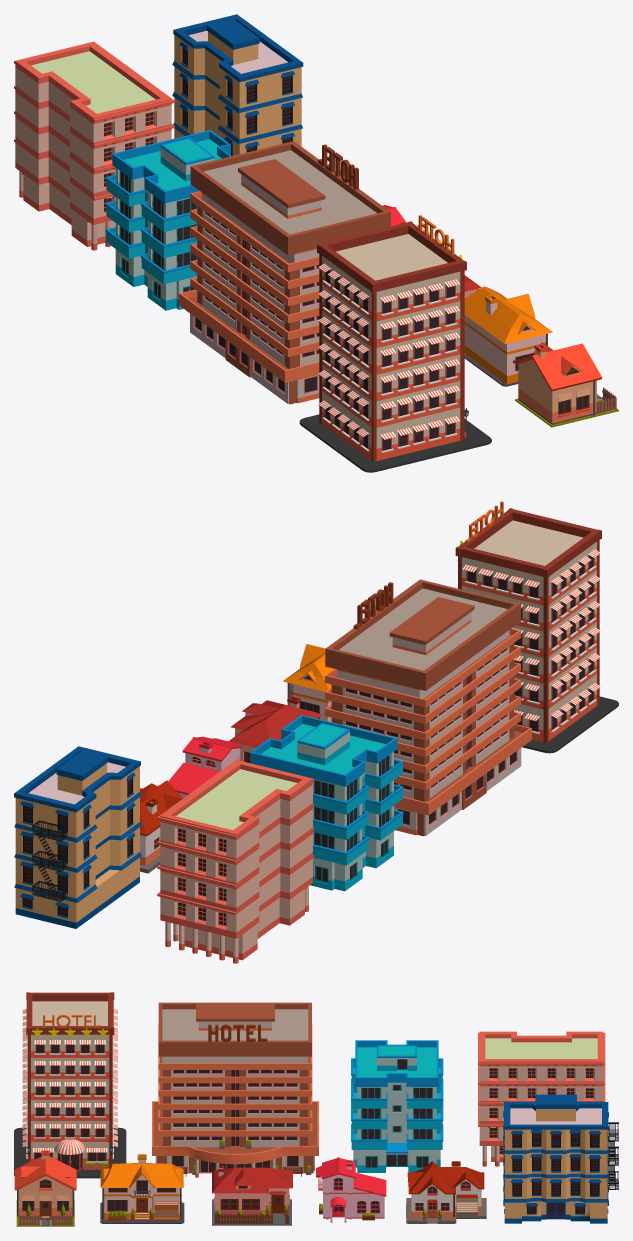
The model's file is low_poly_accommodations_buildings.glb.
3 renders of one model, top to bottom at view 1: azimuth 30°, elevation 25°; view 2: azimuth 150°, elevation 25°; view 3: azimuth 270°, elevation 25°, orthographic. The views are drawn at different scales.
Visible parts, largest first — view 1: PublicBuilding_1, PublicBuilding_2, PublicBuilding_10, PublicBuilding_9, PublicBuilding_8, PublicBuilding_3, PublicBuilding_4; view 2: PublicBuilding_2, PublicBuilding_10, PublicBuilding_1, PublicBuilding_9, PublicBuilding_8, PublicBuilding_5, PublicBuilding_6, PublicBuilding_7, PublicBuilding_4; view 3: PublicBuilding_2, PublicBuilding_1, PublicBuilding_9, PublicBuilding_8, PublicBuilding_10, PublicBuilding_4, PublicBuilding_5, PublicBuilding_7, PublicBuilding_3, PublicBuilding_6.
Boxes of the visible parts, x1,y1,x2,y2 form: PublicBuilding_1: (299, 215, 491, 472); PublicBuilding_2: (179, 141, 390, 404); PublicBuilding_10: (14, 41, 174, 250); PublicBuilding_9: (172, 14, 303, 155); PublicBuilding_8: (105, 130, 231, 310); PublicBuilding_3: (512, 342, 618, 427); PublicBuilding_4: (464, 286, 552, 386); PublicBuilding_2: (325, 579, 531, 836); PublicBuilding_10: (157, 760, 313, 963); PublicBuilding_1: (455, 501, 618, 753); PublicBuilding_9: (14, 746, 141, 928); PublicBuilding_8: (250, 715, 403, 891); PublicBuilding_5: (229, 696, 321, 762); PublicBuilding_6: (168, 736, 242, 797); PublicBuilding_7: (140, 780, 183, 873); PublicBuilding_4: (283, 644, 333, 721); PublicBuilding_2: (152, 1002, 318, 1177); PublicBuilding_1: (14, 992, 126, 1178); PublicBuilding_9: (503, 1094, 618, 1223); PublicBuilding_8: (351, 1040, 443, 1172); PublicBuilding_10: (478, 1031, 605, 1166); PublicBuilding_4: (100, 1154, 184, 1223); PublicBuilding_5: (212, 1165, 292, 1225); PublicBuilding_7: (406, 1161, 486, 1223); PublicBuilding_3: (14, 1150, 76, 1226); PublicBuilding_6: (316, 1157, 386, 1222).
Size of what is drawn, in the model's own units: 13.67 by 10.1 by 35.89.
Materials: 1 (1 with a texture image).
